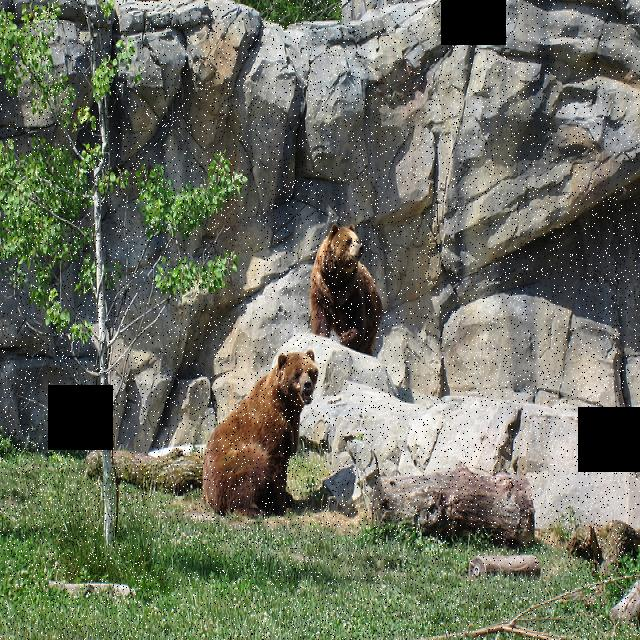Bear: (202, 347, 322, 522), (303, 217, 387, 353)
